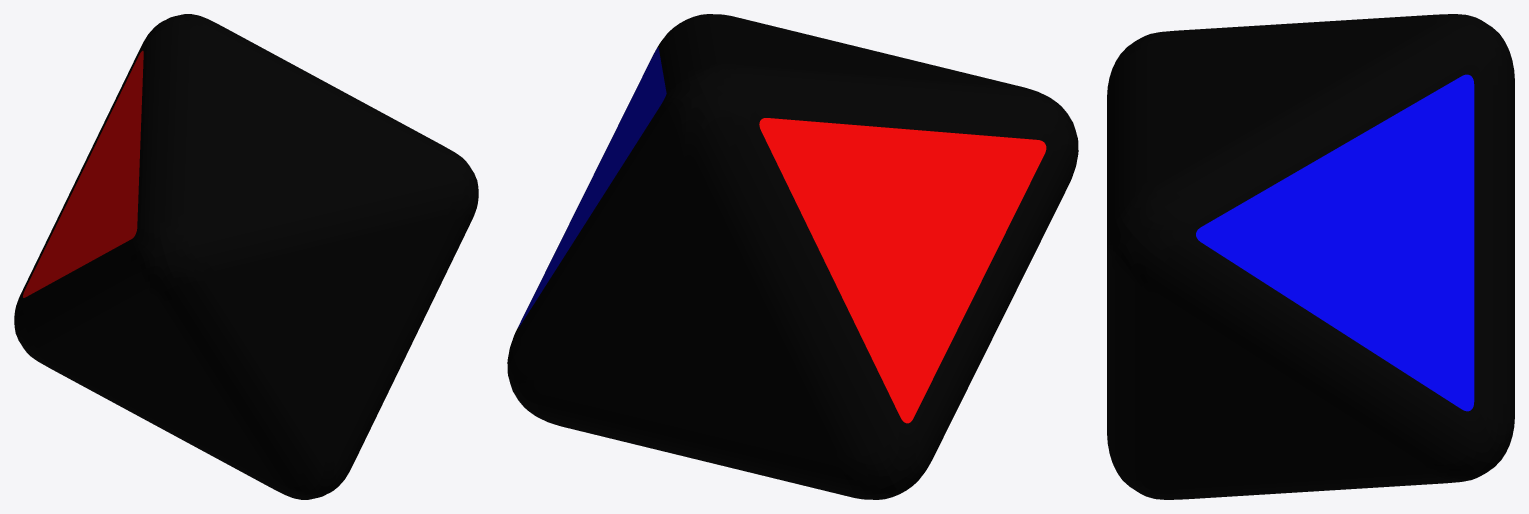
The model's file is o_bry.fbx.
3 renders of one model, left to right at view 1: azimuth 30°, elevation 25°; view 2: azimuth 150°, elevation 25°; view 3: azimuth 270°, elevation 25°, orthographic. The views are drawn at different scales.
Parts seen in each view (by area): view 1: o_bry; view 2: o_bry; view 3: o_bry.
Boxes of the visible parts, x1,y1,x2,y2 form: o_bry: (14,14,478,499); o_bry: (507,14,1078,499); o_bry: (1107,14,1514,499).
Size of the model in its own units: 154 by 171 by 133.
